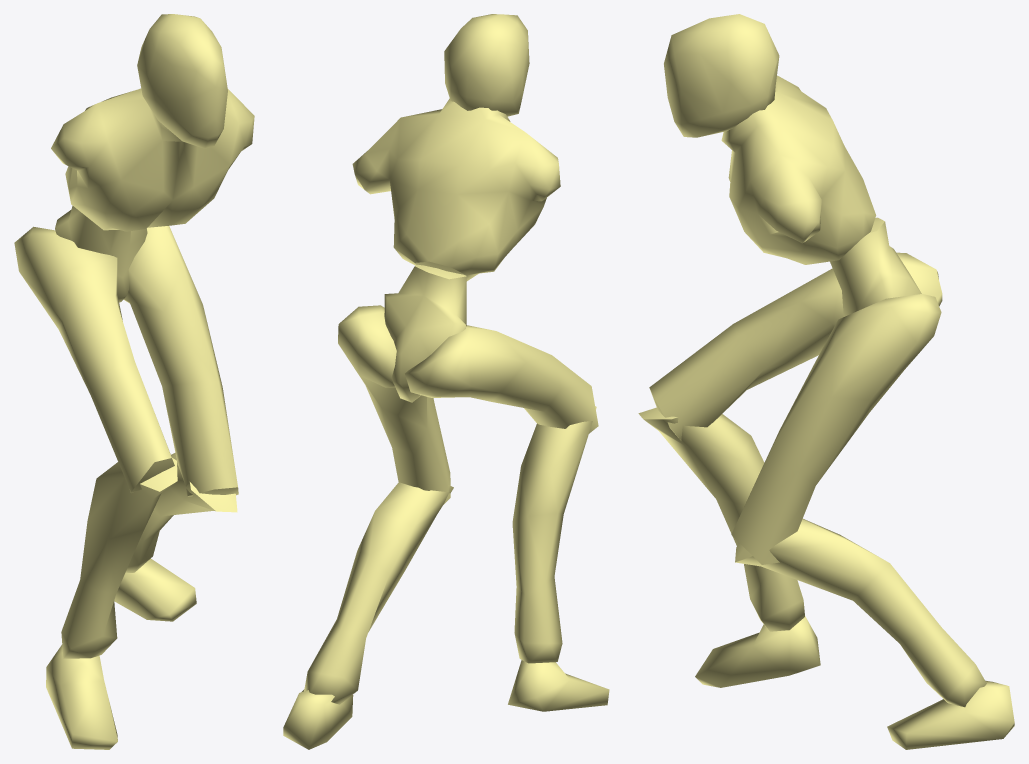
Rendered from filth37.obj.
3 renders of one model, left to right at view 1: azimuth 30°, elevation 25°; view 2: azimuth 150°, elevation 25°; view 3: azimuth 270°, elevation 25°, orthographic. The views are drawn at different scales.
Visible parts, largest first — view 1: Melee_Husk; view 2: Melee_Husk; view 3: Melee_Husk.
Part boxes in pixels (x1,y1,x2,y2): Melee_Husk: [14, 14, 254, 749]; Melee_Husk: [283, 14, 609, 749]; Melee_Husk: [638, 14, 1014, 749].
Bounding box in the file's own units: 22.4 × 67.48 × 32.35.
